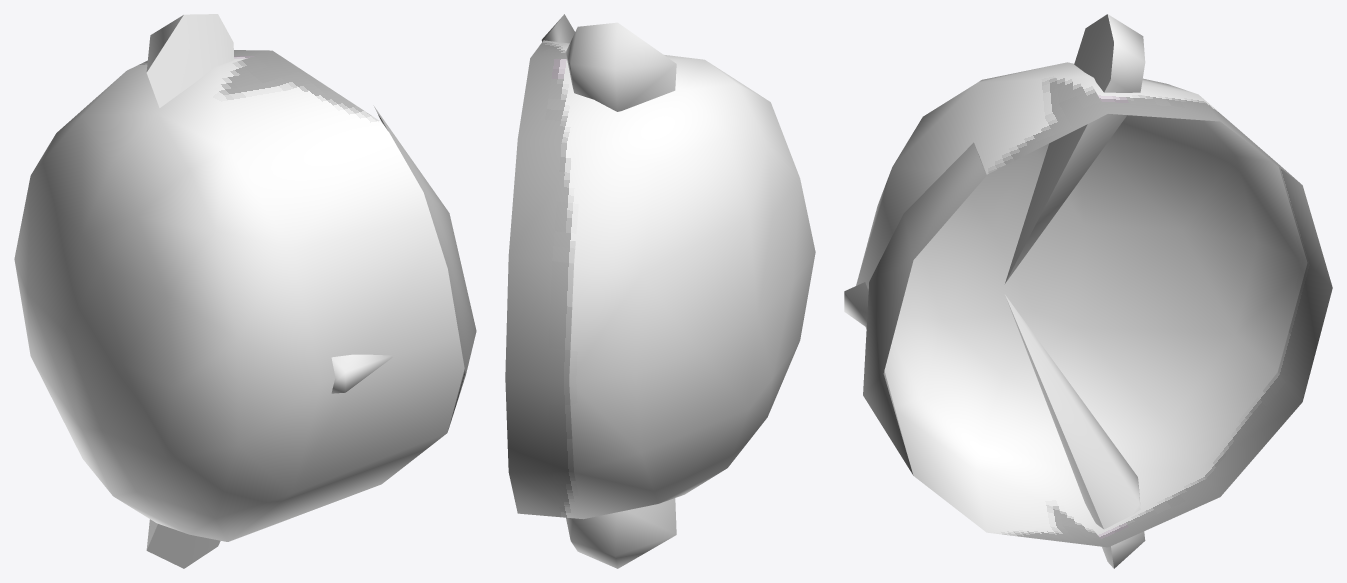
File: girl05b.dae
3 views of the same model, side by side, from view 1: azimuth 30°, elevation 25°; view 2: azimuth 150°, elevation 25°; view 3: azimuth 270°, elevation 25° (orthographic).
Parts seen in each view (by area): view 1: girl05b; view 2: girl05b; view 3: girl05b.
Part boxes in pixels (box(x1,y1,x2,y2)): girl05b: box(14, 14, 476, 568); girl05b: box(505, 14, 815, 568); girl05b: box(844, 14, 1332, 568).
Bounding box in the file's own units: 15.6 × 26.71 × 21.59.
3 materials, 1 textured.
